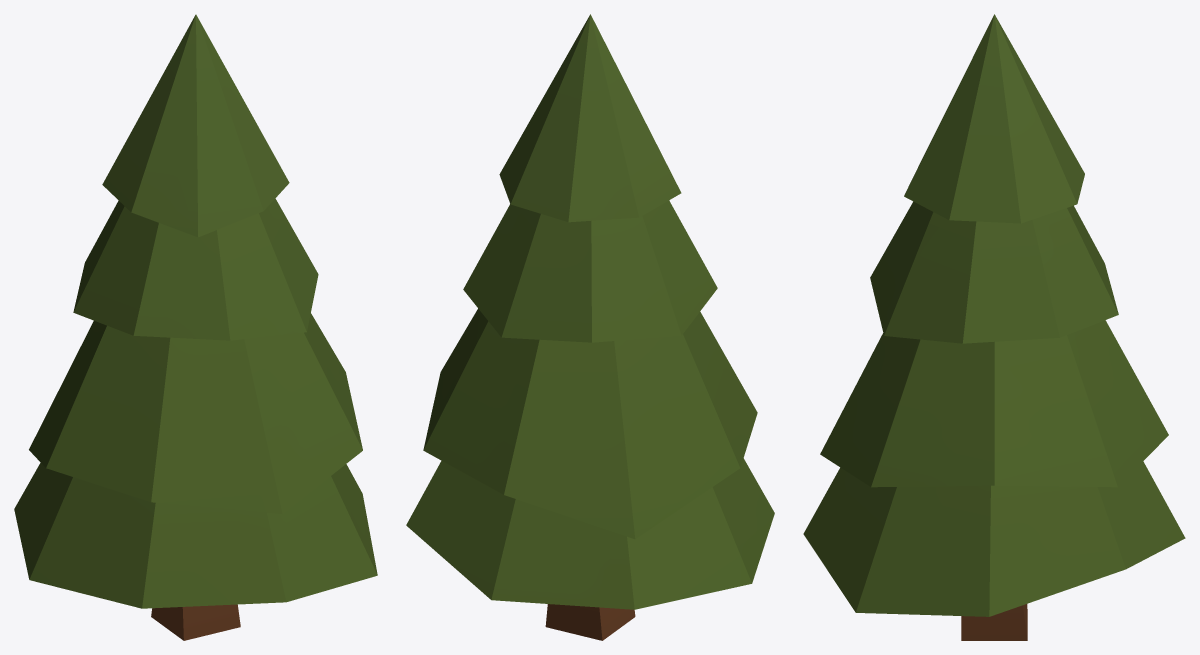
Rendered from tree.glb.
3 views of the same model, side by side, from view 1: azimuth 30°, elevation 25°; view 2: azimuth 150°, elevation 25°; view 3: azimuth 270°, elevation 25° (orthographic).
Visible parts, largest first — view 1: Small pine; view 2: Small pine; view 3: Small pine.
Part boxes in pixels (<box>): Small pine: <box>14,14,377,640</box>; Small pine: <box>406,14,774,640</box>; Small pine: <box>803,14,1185,640</box>.
Size of the model in its own units: 1.36 by 2.41 by 1.36.
Materials: 1 (1 with a texture image).
